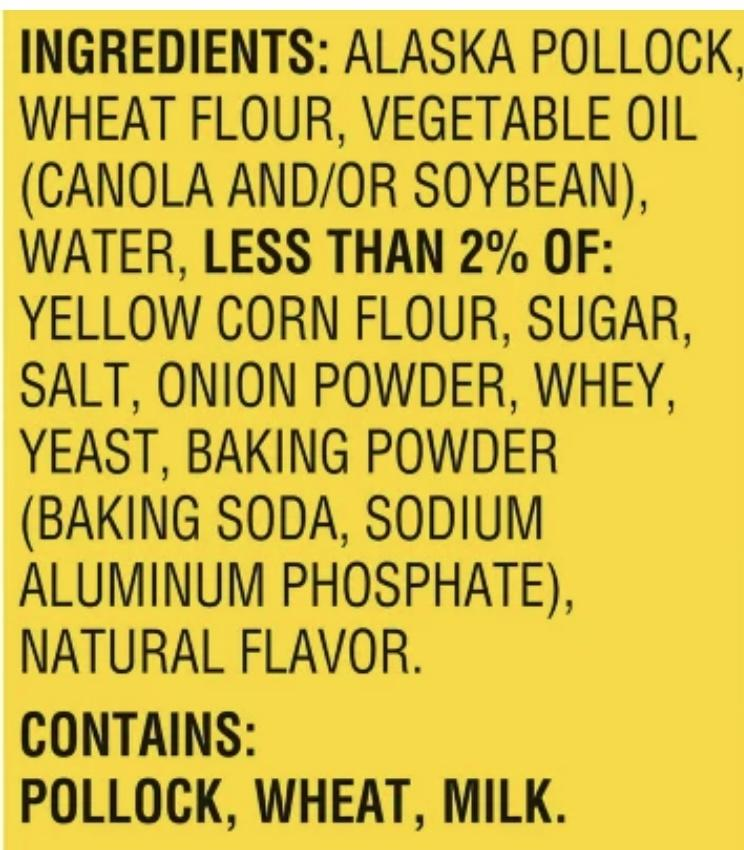ingredients: (15, 13, 739, 843)
